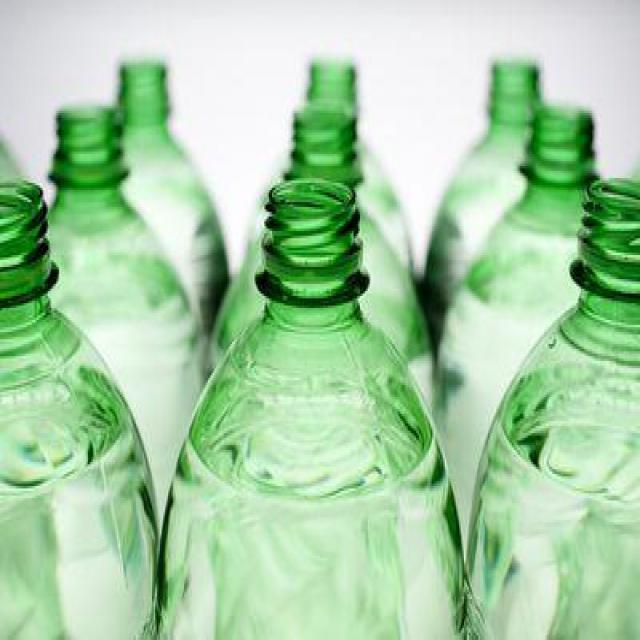plastic_bottle: (161, 172, 467, 640), (466, 169, 640, 640), (1, 176, 159, 640)
